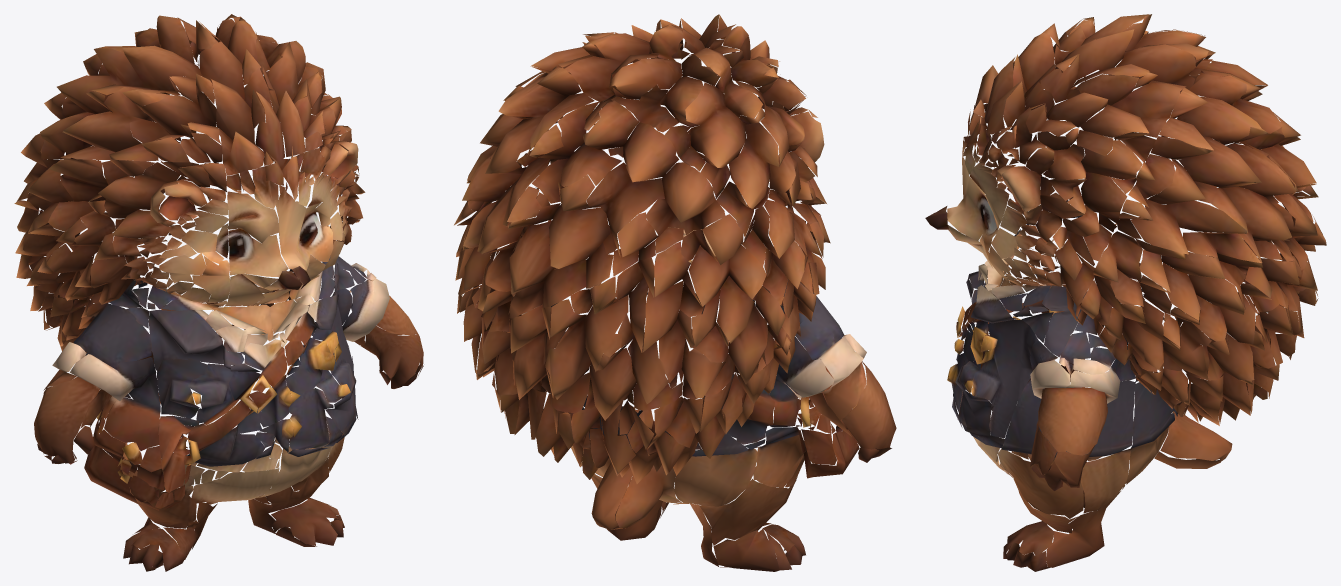
The model's file is 09_notice_hedgehog-mobile-v1.glb.
3 views of the same model, side by side, from view 1: azimuth 30°, elevation 25°; view 2: azimuth 150°, elevation 25°; view 3: azimuth 270°, elevation 25° (orthographic). The views are drawn at different scales.
Visible parts, largest first — view 1: tripo_node_dc61051f-7adc-40f7-bbb5-23b0f8cb9c11; view 2: tripo_node_dc61051f-7adc-40f7-bbb5-23b0f8cb9c11; view 3: tripo_node_dc61051f-7adc-40f7-bbb5-23b0f8cb9c11.
Part boxes in pixels (x1=…): tripo_node_dc61051f-7adc-40f7-bbb5-23b0f8cb9c11: x1=14, y1=14, x2=423, y2=571; tripo_node_dc61051f-7adc-40f7-bbb5-23b0f8cb9c11: x1=454, y1=14, x2=896, y2=571; tripo_node_dc61051f-7adc-40f7-bbb5-23b0f8cb9c11: x1=925, y1=14, x2=1326, y2=571.
Size of the model in its own units: 1.19 by 1.5 by 1.1.
1 material, 1 textured.
